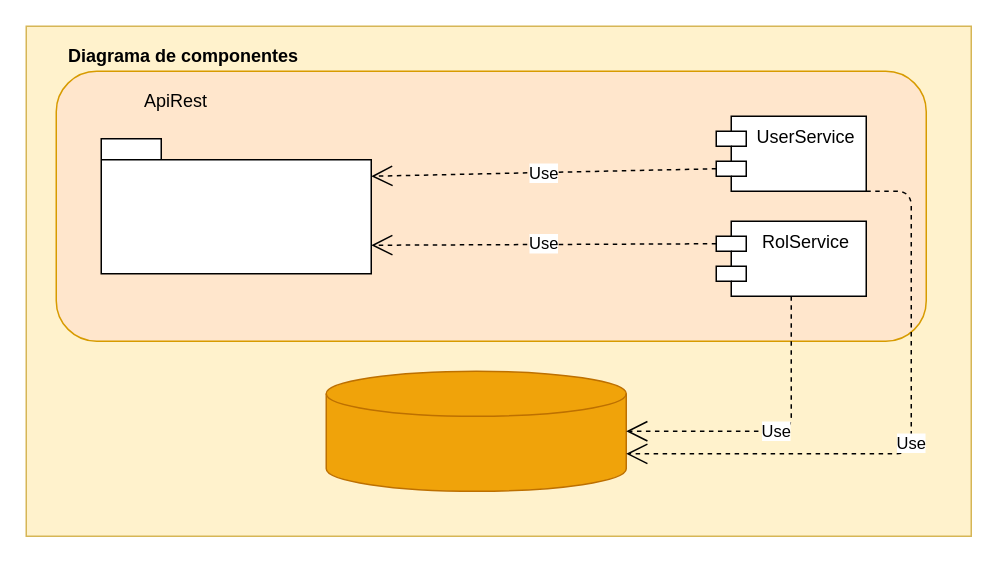
The diagram is 998 pixels wide and 563 high, and some of its shapes have lost their labels. Here are the shapes that lost their labels. From the top down, the box of each, then its label:
(100, 137, 371, 274): Componente de Seguridad Spring Security JWT
(325, 370, 626, 491): H2:MemoryDataBase
